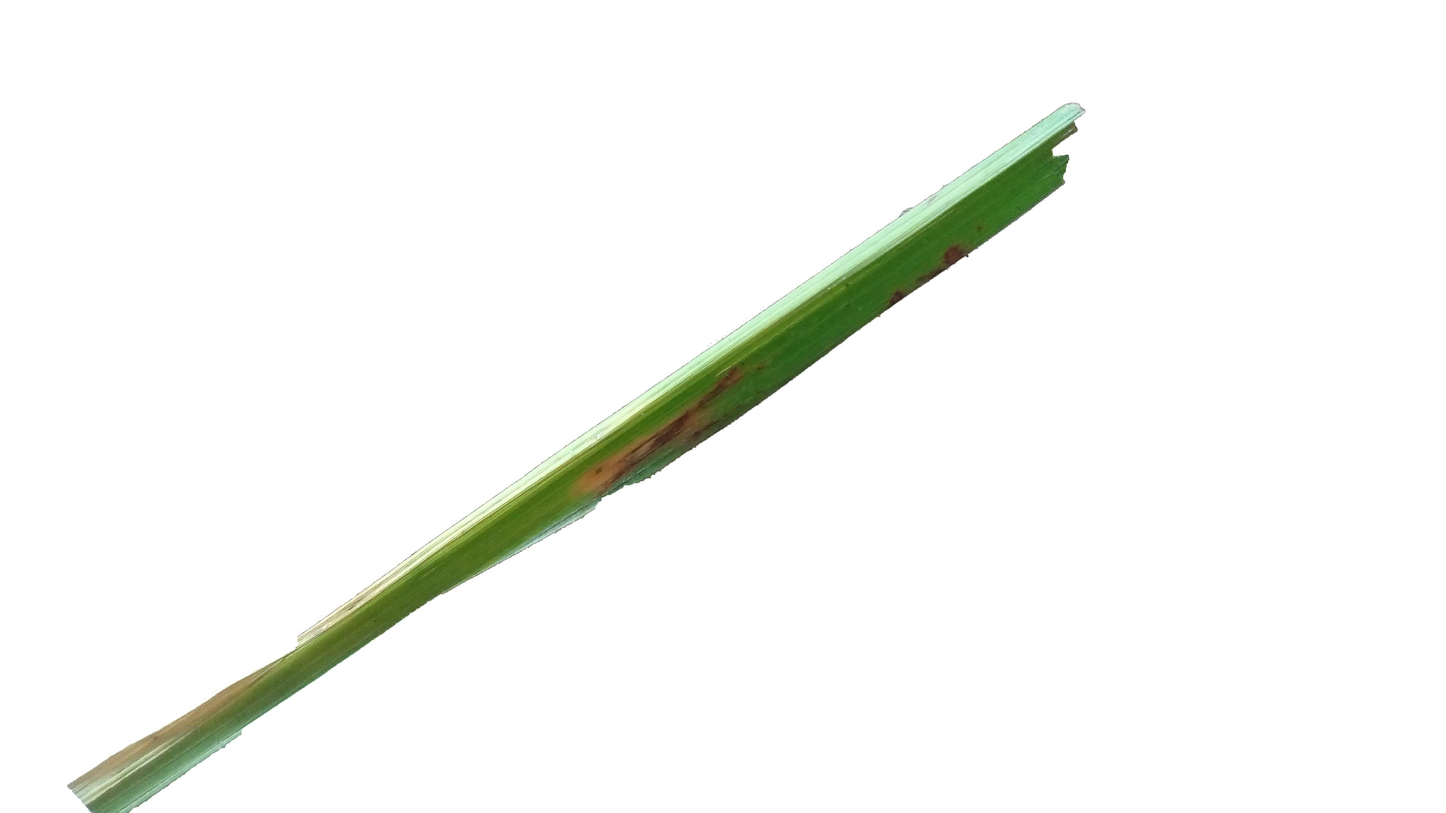Rice blast: (562, 346, 769, 509), (882, 235, 979, 305)
